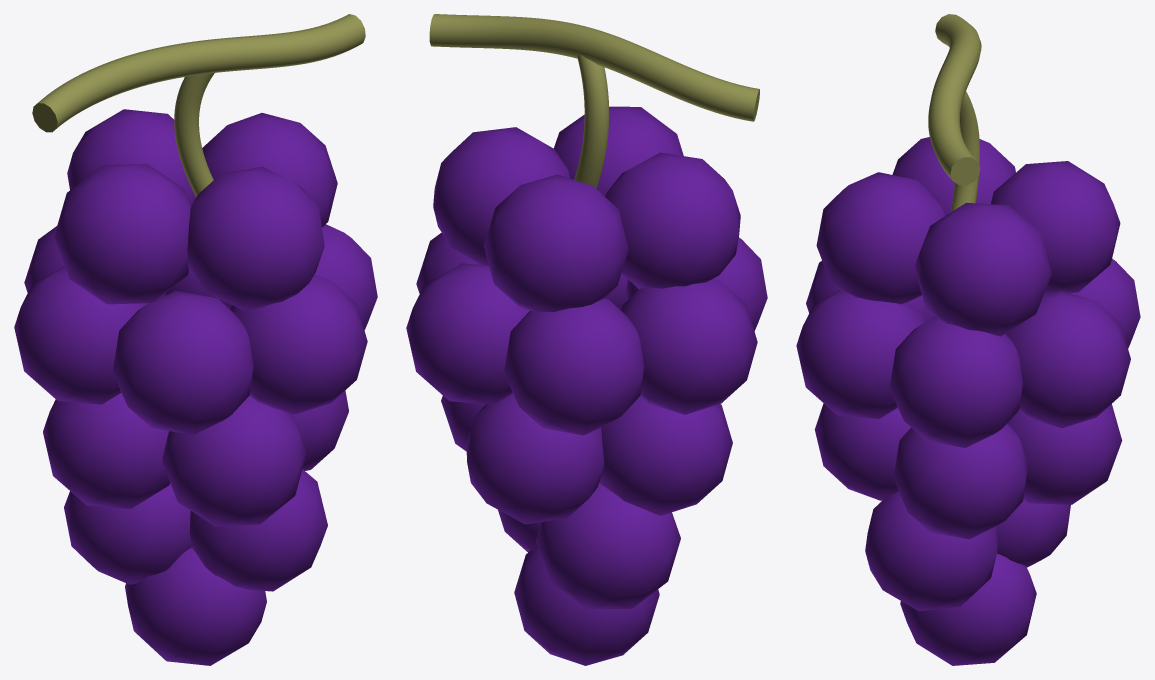
The model's file is grape.fbx.
3 renders of one model, left to right at view 1: azimuth 30°, elevation 25°; view 2: azimuth 150°, elevation 25°; view 3: azimuth 270°, elevation 25°, orthographic. The views are drawn at different scales.
Parts seen in each view (by area): view 1: ICO球.002, ICO球, ICO球.003, ICO球.001, NURBSパス, ICO球.004, NURBSパス.001; view 2: ICO球.002, ICO球, ICO球.003, ICO球.001, NURBSパス, ICO球.004, NURBSパス.001; view 3: ICO球.002, ICO球, ICO球.003, ICO球.001, ICO球.004, NURBSパス, NURBSパス.001.
Boxes of the visible parts, x1,y1,x2,y2 form: ICO球.002: (14, 224, 377, 435); ICO球: (54, 109, 337, 310); ICO球.003: (43, 390, 348, 526); ICO球.001: (64, 469, 327, 591); NURBSパス: (32, 14, 365, 132); ICO球.004: (125, 548, 266, 665); NURBSパス.001: (174, 73, 214, 197); ICO球.002: (406, 232, 767, 435); ICO球: (433, 106, 740, 312); ICO球.003: (441, 393, 732, 524); ICO球.001: (498, 483, 680, 609); NURBSパス: (429, 14, 759, 121); ICO球.004: (514, 549, 659, 665); NURBSパス.001: (574, 55, 609, 188); ICO球.002: (796, 258, 1140, 447); ICO球: (816, 137, 1120, 336); ICO球.003: (814, 403, 1122, 539); ICO球.001: (865, 491, 1070, 611); ICO球.004: (900, 553, 1036, 665); NURBSパス: (928, 14, 981, 185); NURBSパス.001: (950, 91, 979, 212).
Bounding box in the file's own units: 446 × 796 × 419.
